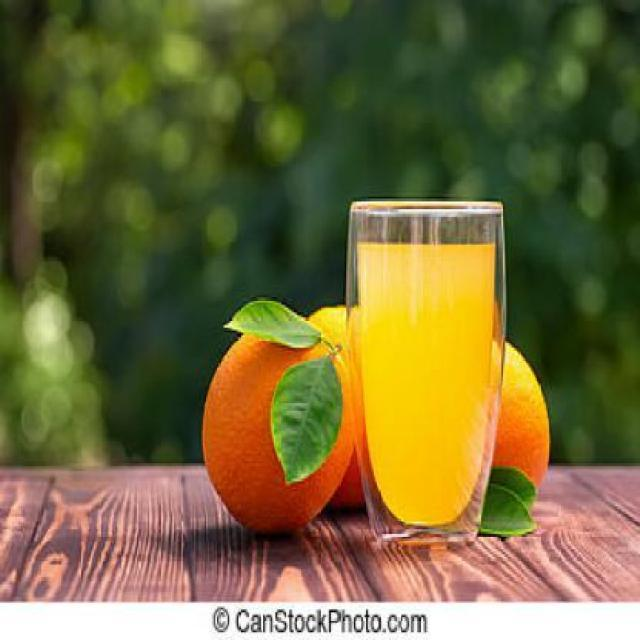Jeruk Sudah Matang: (203, 314, 359, 540), (408, 328, 554, 537), (275, 309, 408, 522)
